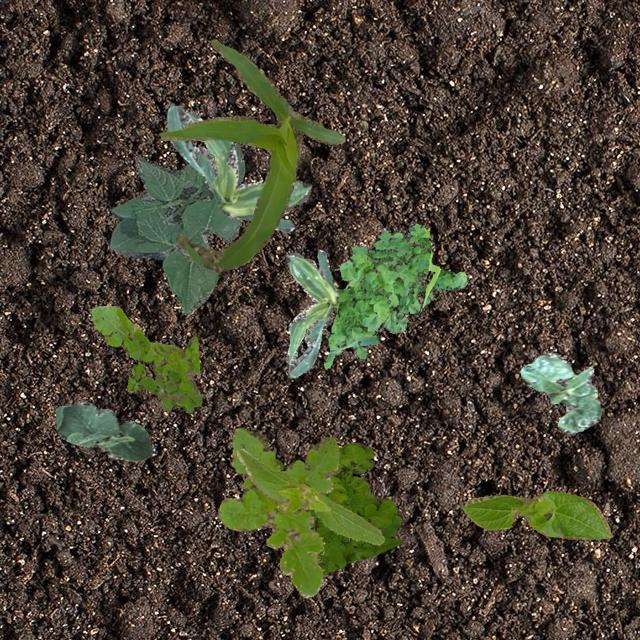crop: (158, 38, 344, 272), (108, 142, 244, 314), (166, 102, 310, 232), (235, 448, 384, 544), (460, 489, 610, 538), (284, 248, 338, 376), (520, 350, 600, 432), (55, 400, 152, 460)
weed: (322, 222, 467, 368), (216, 426, 338, 596), (274, 442, 402, 574), (90, 304, 200, 412), (126, 362, 182, 410)
